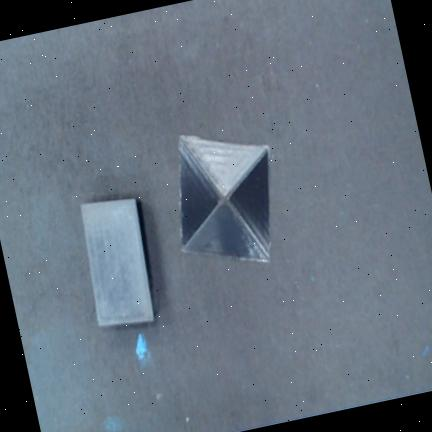Paralelepipedo: (81, 198, 157, 325)
Piramide: (178, 135, 270, 264)
